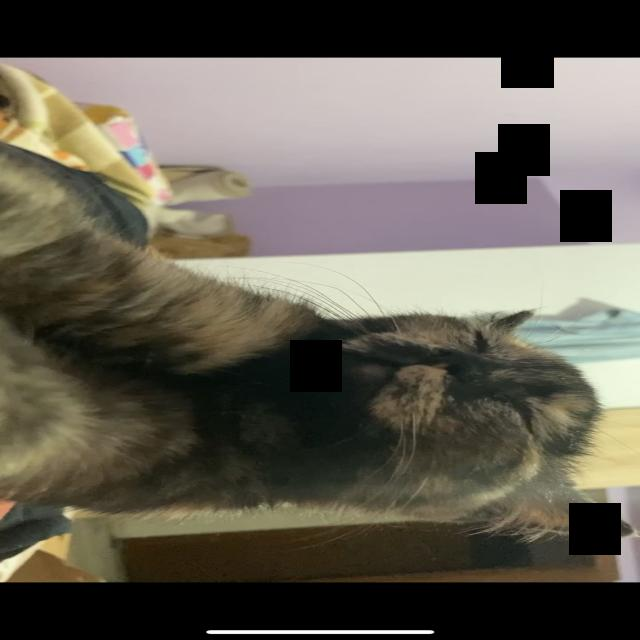authorized: (1, 140, 634, 548)
